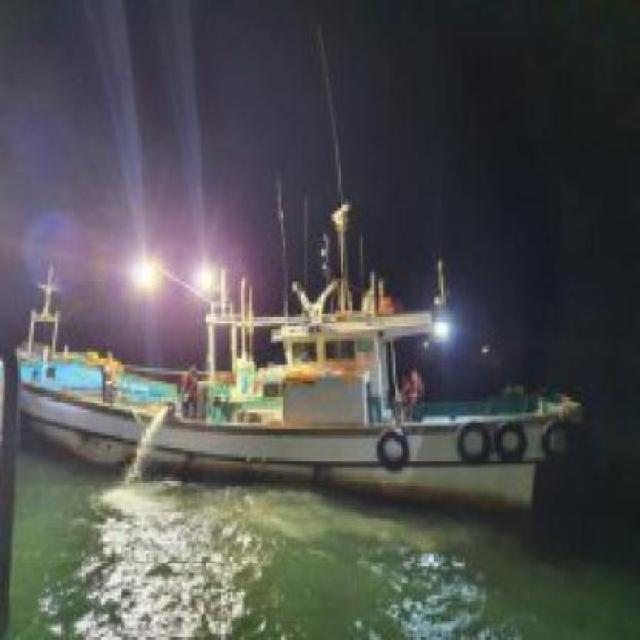fish-b: (1, 190, 598, 530)
